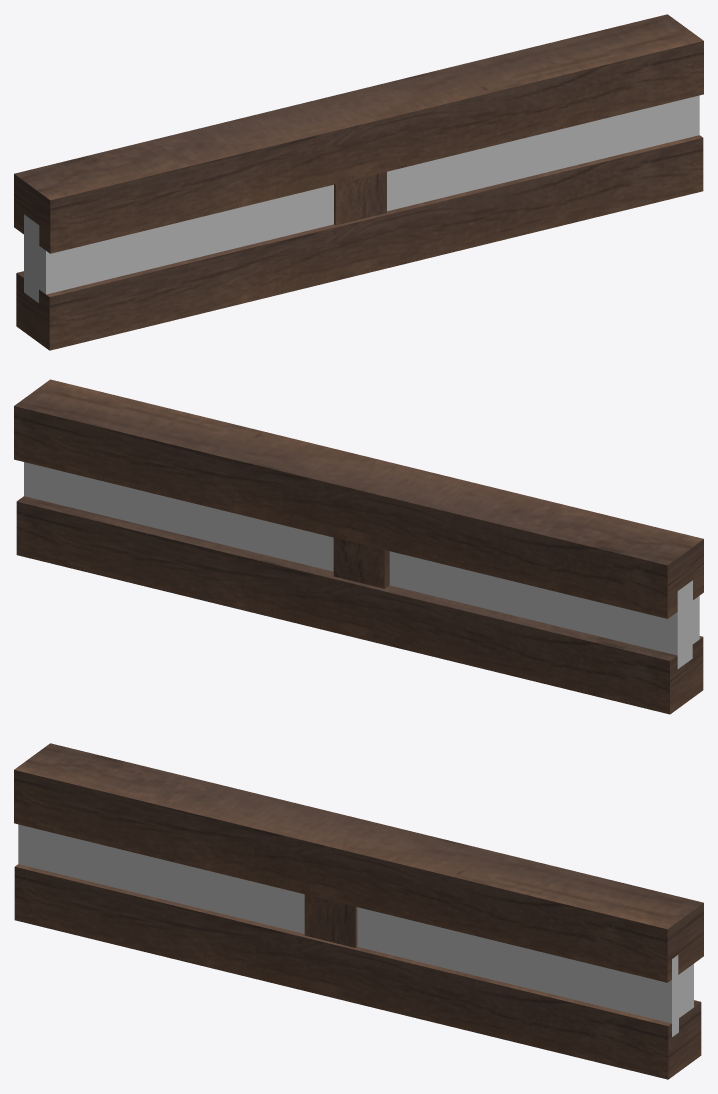
Rendered from yane_frame_1t_1f_6.fbx.
3 renders of one model, top to bottom at view 1: azimuth 30°, elevation 25°; view 2: azimuth 150°, elevation 25°; view 3: azimuth 330°, elevation 25°, orthographic.
Visible parts, largest first — view 1: yane_frame_1t_1f_6; view 2: yane_frame_1t_1f_6; view 3: yane_frame_1t_1f_6.
Boxes of the visible parts, x1,y1,x2,y2 form: yane_frame_1t_1f_6: (14,14,703,350); yane_frame_1t_1f_6: (14,379,703,714); yane_frame_1t_1f_6: (14,743,703,1079).
Size of the model in its own units: 220 by 48.53 by 21.21.
